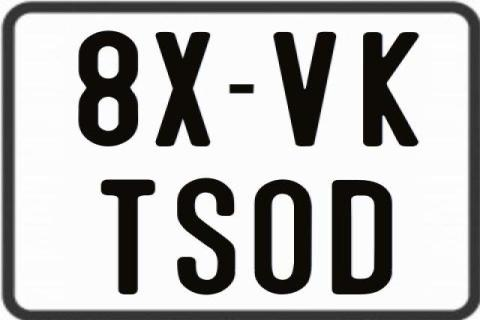0: (77, 29, 142, 147), (253, 178, 312, 294)
D: (331, 180, 395, 294)
K: (362, 32, 418, 146)
S: (174, 177, 234, 295)
T: (101, 177, 159, 297)
V: (273, 32, 341, 148)
X: (155, 30, 213, 146)
